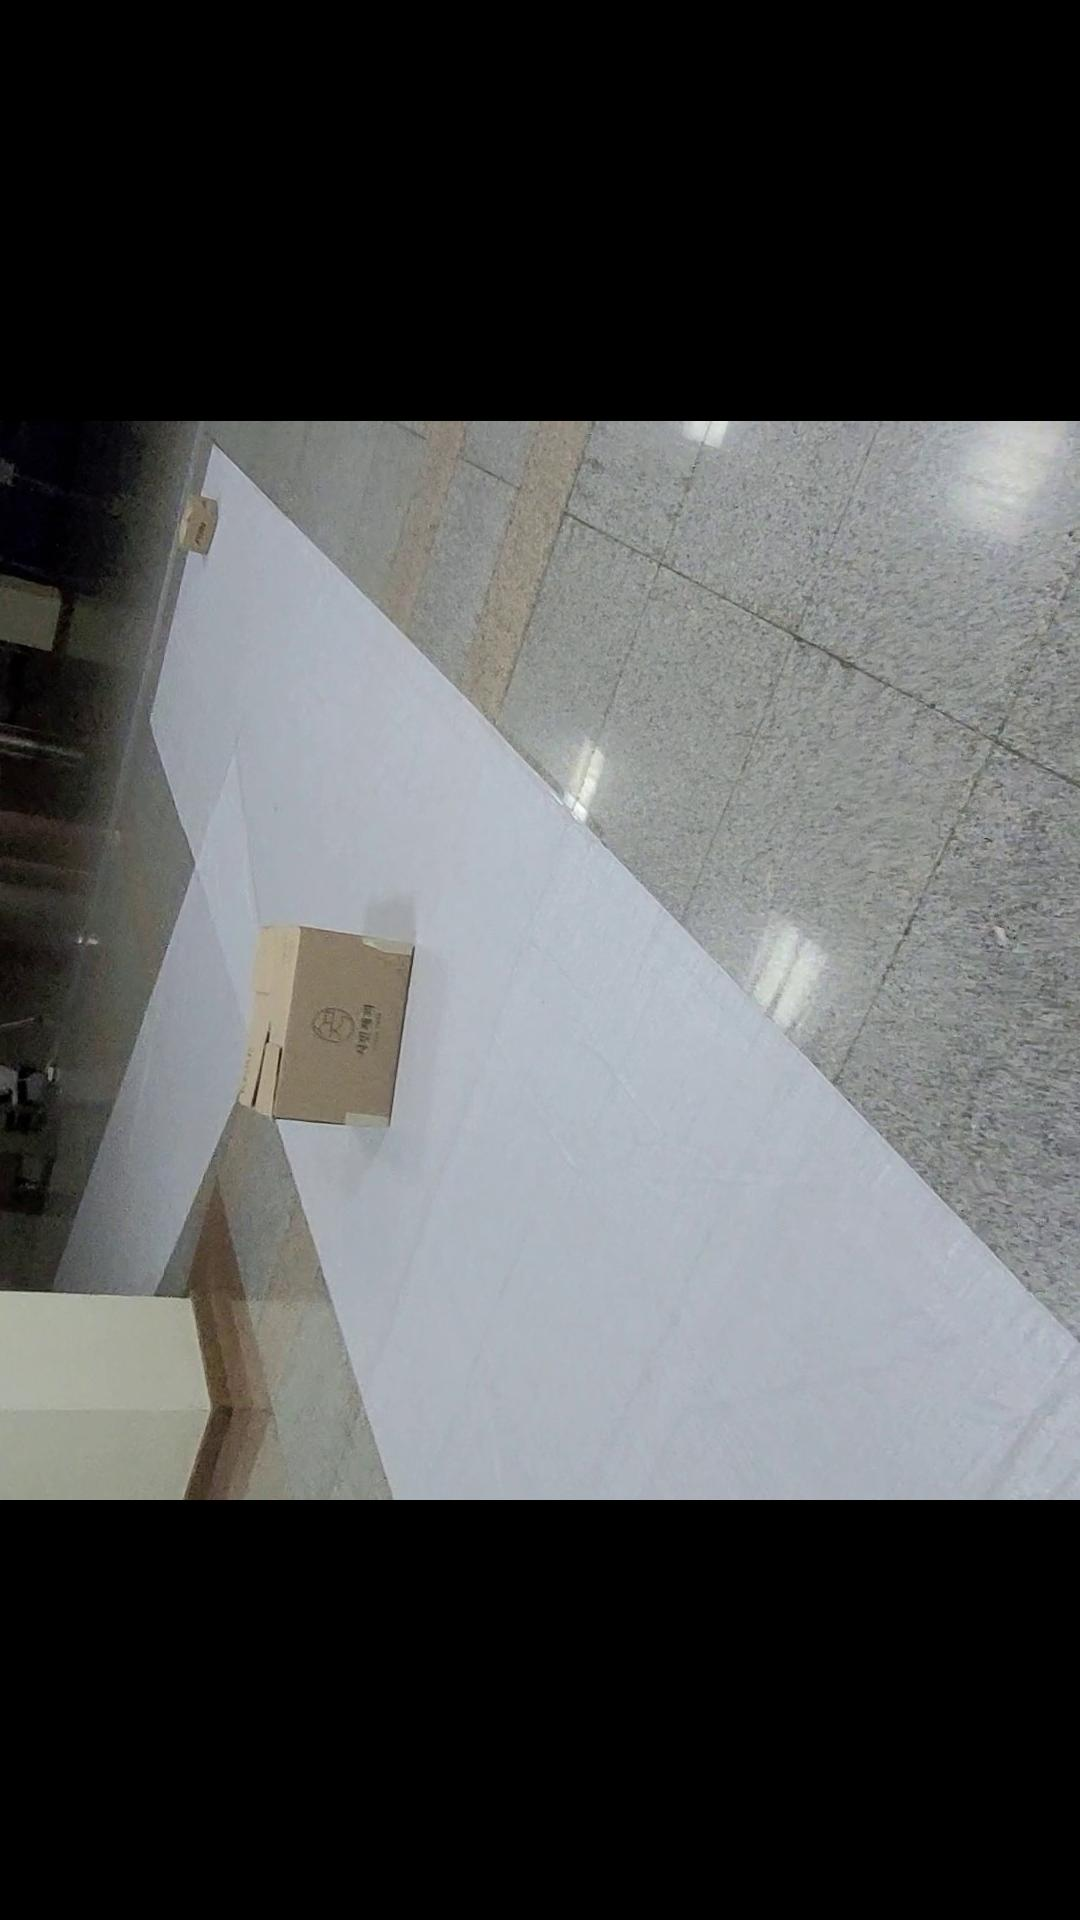Box: (229, 891, 450, 1134), (183, 475, 240, 604)
